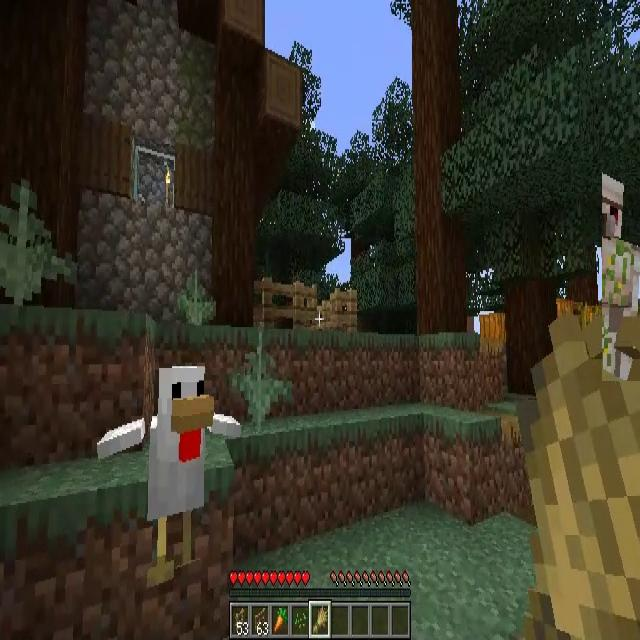duck: (99, 368, 242, 586)
people: (602, 170, 640, 381)
